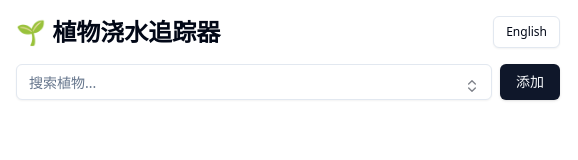
Test: PlantTracker › Language switching › switches between languages
Expected: the heading "🌱 植物浇水追踪器" is shown, [16,16,220,48]
# Switch to English
Click the button "English".
click(527, 32)  # box [493,16,560,48]
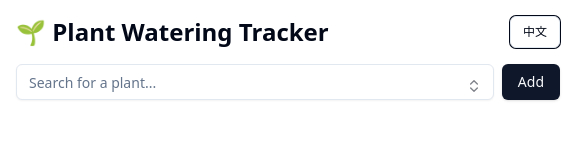
Now the heading "🌱 Plant Watering Tracker" is shown, box [16,16,329,48]
Now the field with placeholder "Search for a plant..." is shown, box [16,64,494,100]
Now the button "Add" is shown, box [502,64,560,100]
# Switch back to Chinese
Click the button "中文".
click(535, 32)  # box [510,16,560,48]
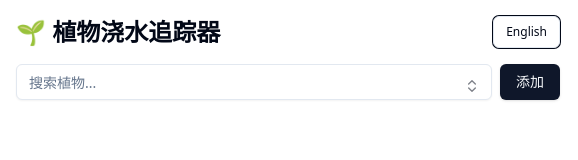
Now the heading "🌱 植物浇水追踪器" is shown, box [16,16,220,48]
Now the field with placeholder "搜索植物..." is shown, box [16,64,492,100]
Now the button "添加" is shown, box [500,64,560,100]
